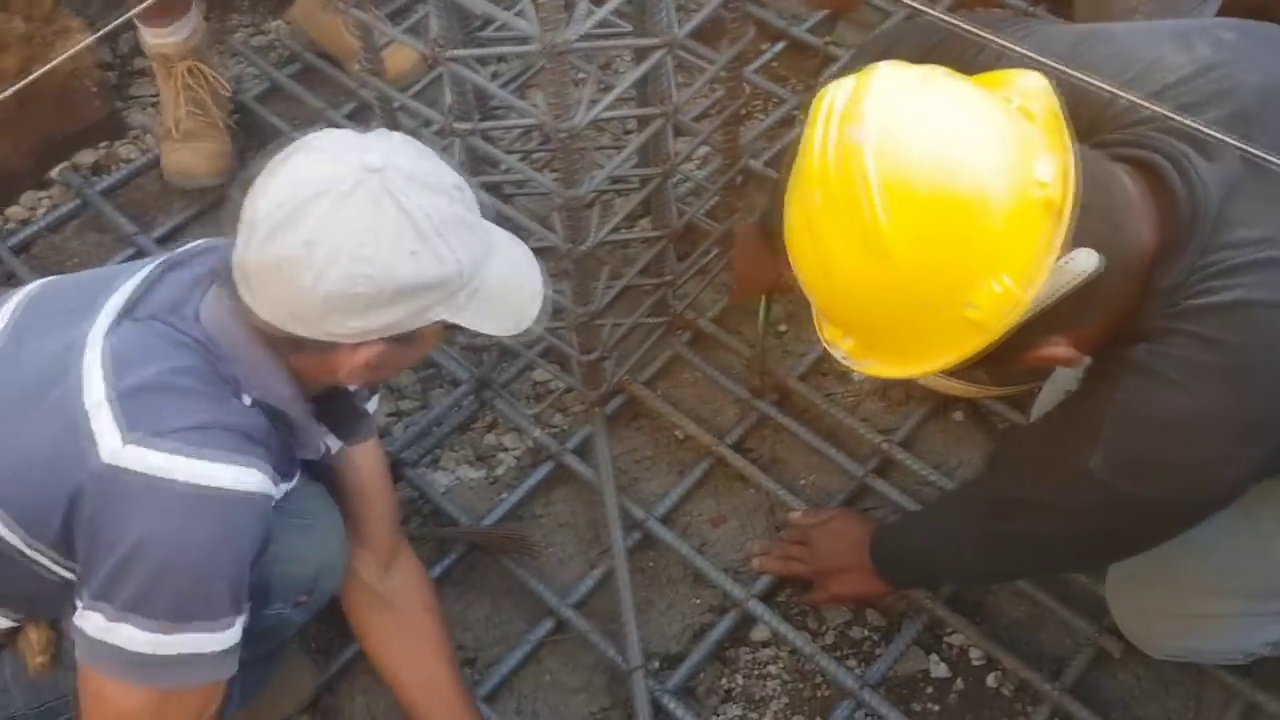helmet: (770, 63, 1076, 378)
helmet-off: (228, 130, 542, 399)
helmet-on: (772, 56, 1186, 396)
person: (756, 12, 1280, 674), (0, 135, 543, 719)
